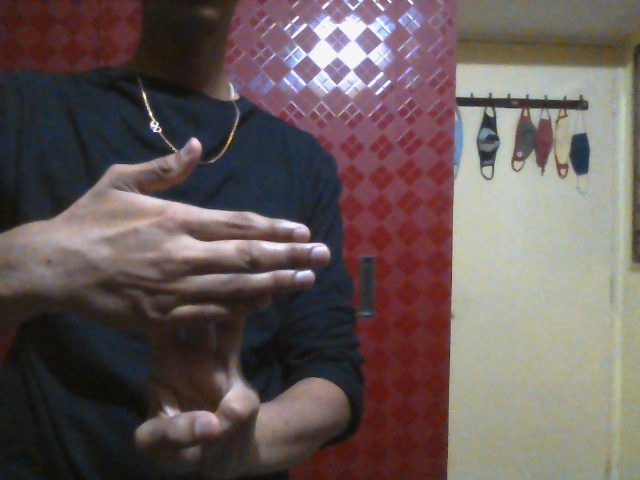M: (55, 135, 330, 480)
